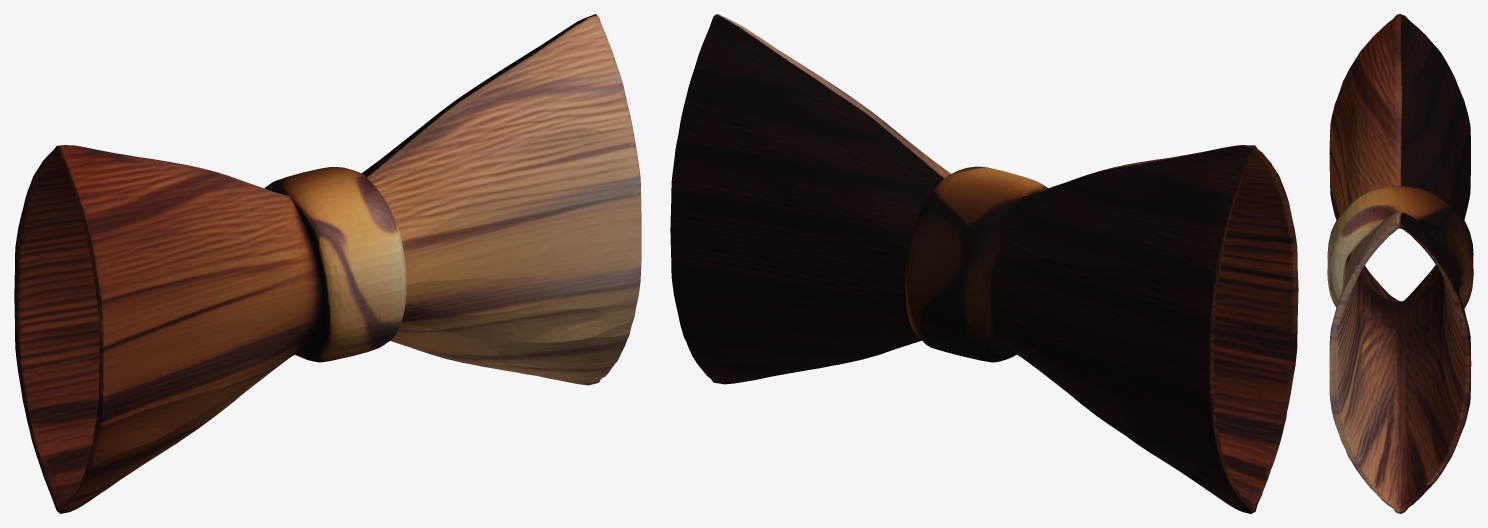
File: wooden-bowtie-vintage.jpeg.glb
The picture shows the model from 3 angles, left to right: view 1: azimuth 30°, elevation 25°; view 2: azimuth 150°, elevation 25°; view 3: azimuth 270°, elevation 25°; orthographic projection. The views are drawn at different scales.
Parts seen in each view (by area): view 1: world; view 2: world; view 3: world.
Boxes of the visible parts, <box> form: world: <box>14,14,641,513</box>; world: <box>670,14,1298,513</box>; world: <box>1327,14,1473,513</box>.
Bounding box in the file's own units: 1 × 0.6524 × 0.2964.
Materials: 1 (1 with a texture image).
